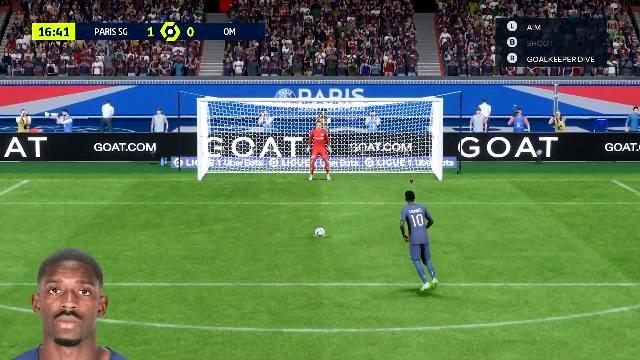bottom-left: (202, 149, 284, 183)
bottom-right: (356, 148, 440, 182)
center-down: (286, 148, 354, 182)
center-up: (286, 102, 354, 148)
football: (316, 228, 326, 234)
goalkeeper: (303, 124, 335, 182)
player: (394, 189, 442, 291)
top-left: (202, 103, 284, 147)
top-right: (354, 102, 440, 148)
